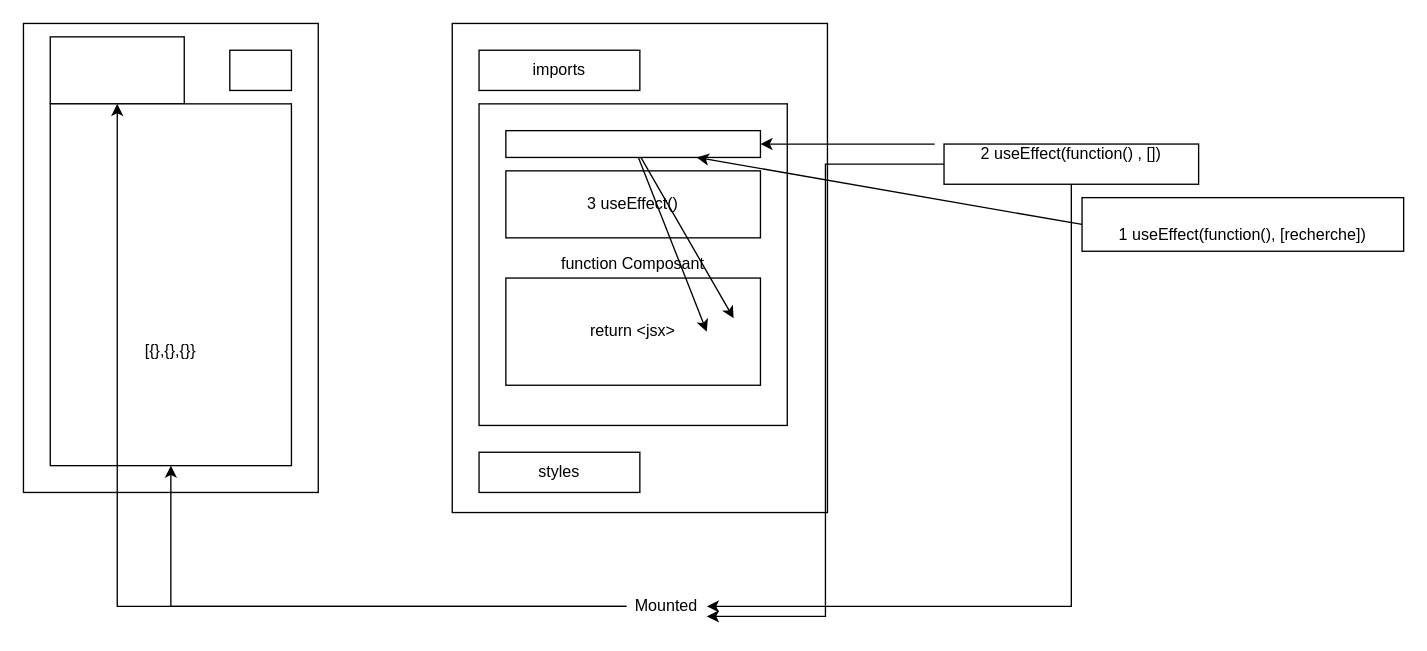
The diagram is 1427 pixels wide and 651 high, and some of its shapes have lost their labels. The box of each missing label's shape, as (x1, y1, x2, y2) in pixels:
2 useState(): (505, 129, 760, 157)
recherche = "" = 'mojito' =margarita: (49, 36, 184, 104)
resultats= [] = [{},{},{},{}]: (49, 103, 291, 466)
